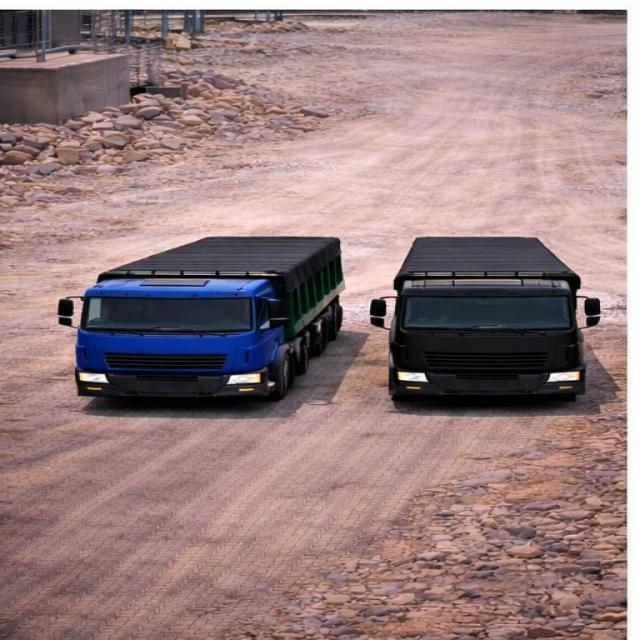Box: (100, 230, 342, 281), (394, 236, 584, 284)
Truck: (52, 214, 354, 410), (371, 219, 605, 415)
